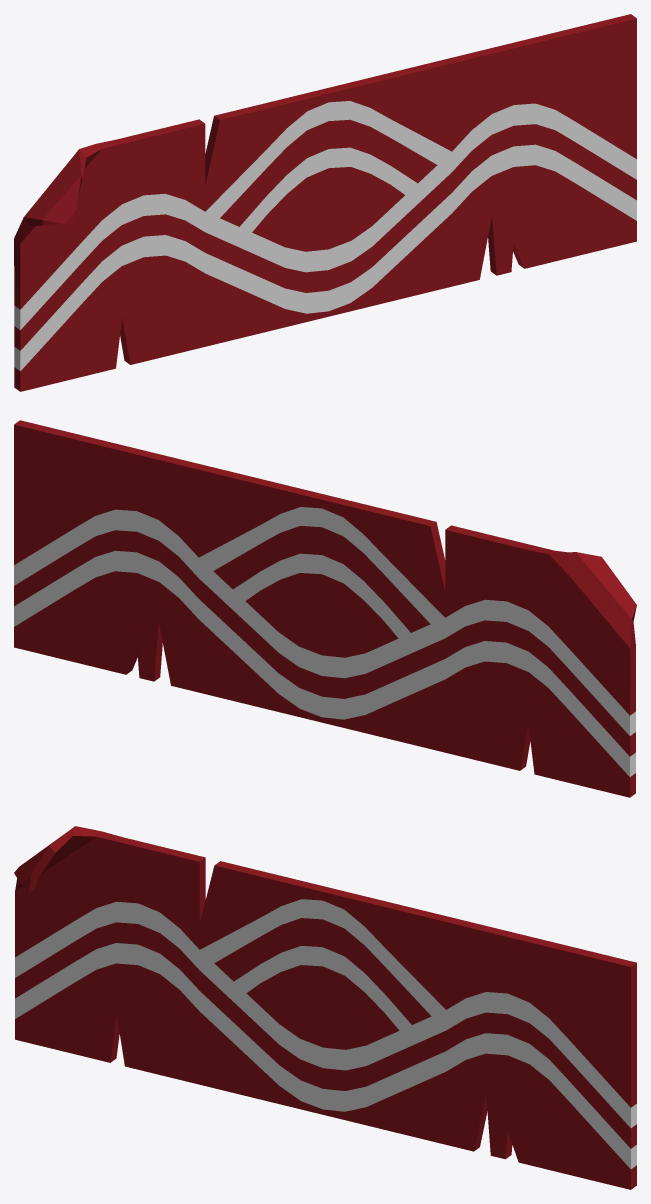
The model's file is Decoration_Painting.glb.
3 renders of one model, top to bottom at view 1: azimuth 30°, elevation 25°; view 2: azimuth 150°, elevation 25°; view 3: azimuth 330°, elevation 25°, orthographic.
Parts seen in each view (by area): view 1: Decoration_Painting; view 2: Decoration_Painting; view 3: Decoration_Painting.
Boxes of the visible parts, x1,y1,x2,y2 form: Decoration_Painting: (14,14,636,391); Decoration_Painting: (14,420,636,797); Decoration_Painting: (14,826,636,1189).
Size of the model in its own units: 4 by 1.41 by 0.3.
Materials: 1 (1 with a texture image).
